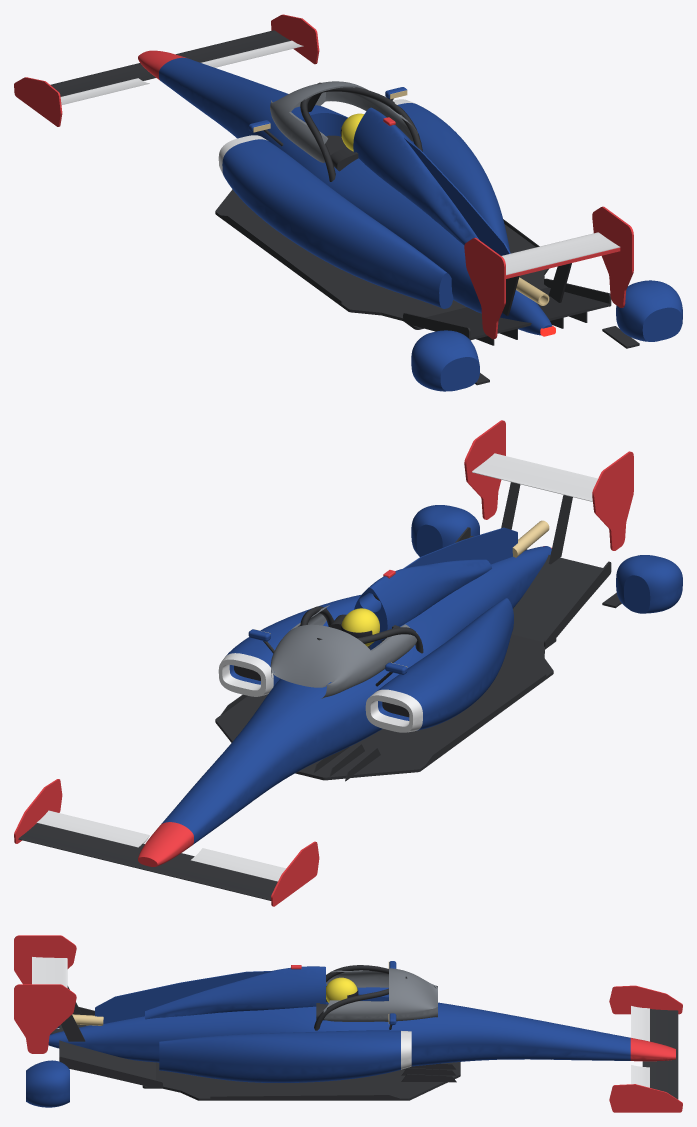
The model's file is body.glb.
The picture shows the model from 3 angles, top to bottom: view 1: azimuth 30°, elevation 25°; view 2: azimuth 150°, elevation 25°; view 3: azimuth 270°, elevation 25°; orthographic projection. The views are drawn at different scales.
Visible parts, largest first — view 1: Livery, Carbon, Accent, LiveryWhite, Glass, Metal; view 2: Livery, Carbon, Accent, LiveryWhite, Glass, Helmet; view 3: Livery, Carbon, Accent, Glass, LiveryWhite, Helmet, Metal.
Part boxes in pixels (x1,y1,x2,y2): Livery: (159,57,682,391); Carbon: (50,30,639,385); Accent: (14,14,633,339); LiveryWhite: (60,40,620,275); Glass: (270,81,417,162); Metal: (253,90,549,305); Livery: (161,505,682,844); Carbon: (18,482,621,900); Accent: (14,420,633,906); LiveryWhite: (36,453,597,881); Glass: (270,605,417,698); Helmet: (341,608,379,646); Livery: (26,961,630,1107); Carbon: (50,965,678,1100); Accent: (14,935,682,1112); Glass: (323,968,437,1021); LiveryWhite: (32,957,649,1087); Helmet: (326,977,357,1002); Metal: (72,962,389,1025).
Size of the model in its own units: 1.99 by 0.955 by 5.62.
